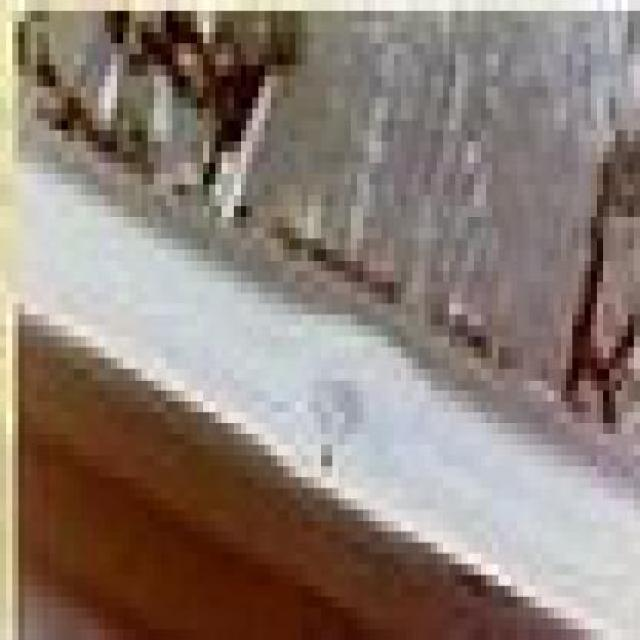defective: (164, 263, 481, 590)
